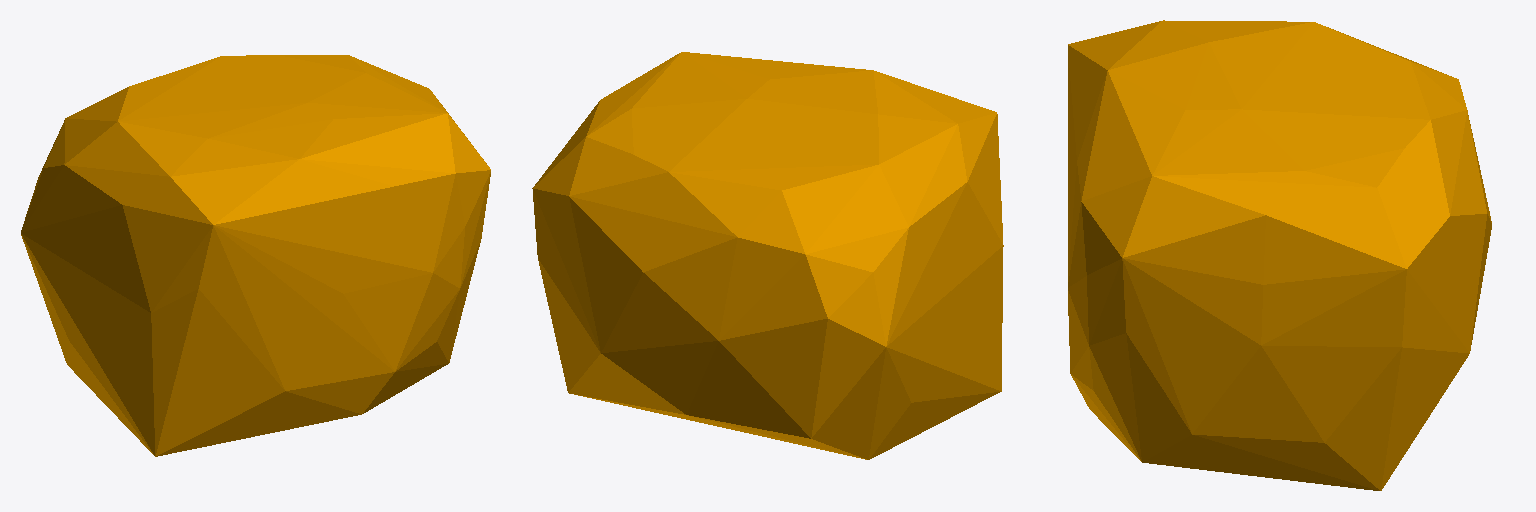
robot.urdf — 11_120:
<?xml version="1.0"?>
<robot name="11_120">
  <link name="link">
    <contact>
      <lateral_friction value="0.6"/>
    </contact>
    <inertial>
      <mass value = "0.21113500479524547"/>
      <inertia ixx="5.8898021044907825e-05" ixy="2.009446287759301e-07" ixz="8.57480665480026e-07" iyy="6.9658391437747e-05" iyz="-6.368895545306973e-07" izz="7.798086258098233e-05" />
    </inertial>
    <visual name="visual">
      <geometry>
        <mesh filename="11_120.obj"/>
      </geometry>
    </visual>
    <collision name="collision">
      <geometry>
        <mesh filename="11_120.obj"/>
      </geometry>
    </collision>
  </link>
</robot>

--- Render facts (derived) ---
3 views of the same robot in one strip: view 1: azimuth 30°, elevation 25°; view 2: azimuth 150°, elevation 25°; view 3: azimuth 270°, elevation 25° (orthographic).
Model 11_120 with 1 links and 0 joints (none), rooted at link, posed every joint at zero.
Links seen in each view (by area): view 1: link; view 2: link; view 3: link.
Boxes of the visible links, <box> form: link: <box>21,55,490,456</box>; link: <box>532,52,1003,459</box>; link: <box>1068,20,1491,490</box>.
Bounding box of the posed robot: 0.0562 × 0.0504 × 0.0418 m (x, y, z).
1 mesh visuals loaded from 1 distinct referenced files (1 OBJ).
